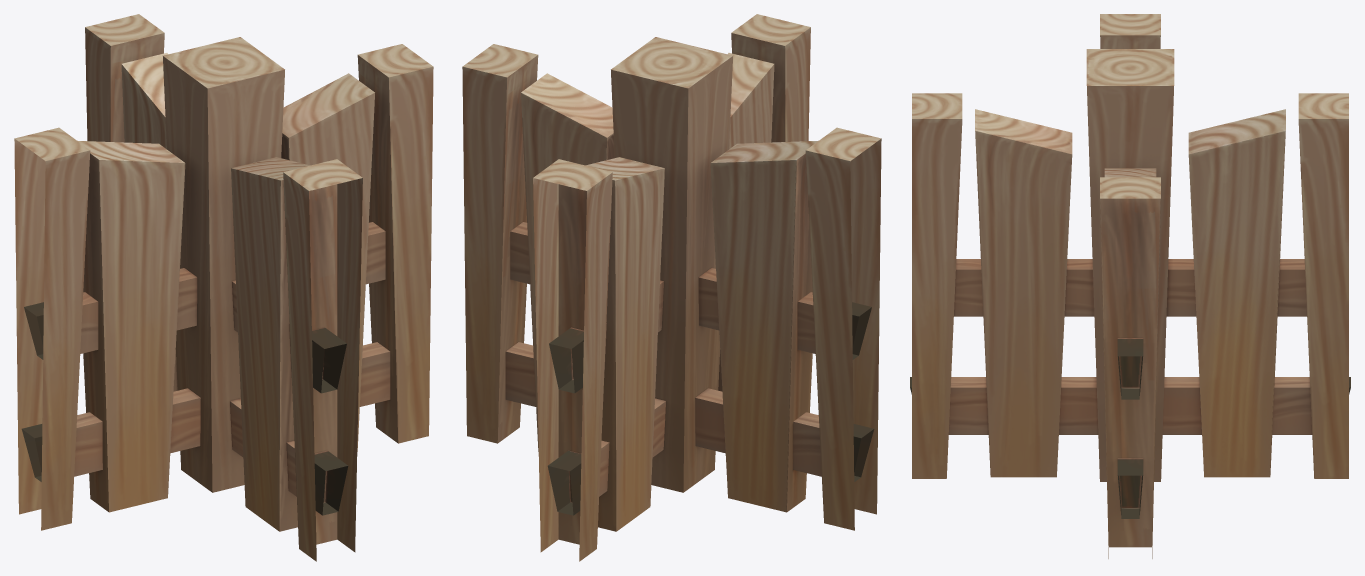
File: fence2_corner4.obj
The picture shows the model from 3 angles, left to right: view 1: azimuth 30°, elevation 25°; view 2: azimuth 150°, elevation 25°; view 3: azimuth 270°, elevation 25°; orthographic projection. The views are drawn at different scales.
Visible parts, largest first — view 1: fence2_corner4; view 2: fence2_corner4; view 3: fence2_corner4.
Part boxes in pixels (box(x1,y1,x2,y2)): fence2_corner4: box(14, 14, 433, 561); fence2_corner4: box(462, 14, 881, 561); fence2_corner4: box(910, 14, 1350, 558).
Bounding box in the file's own units: 50.49 × 50.83 × 50.49.
